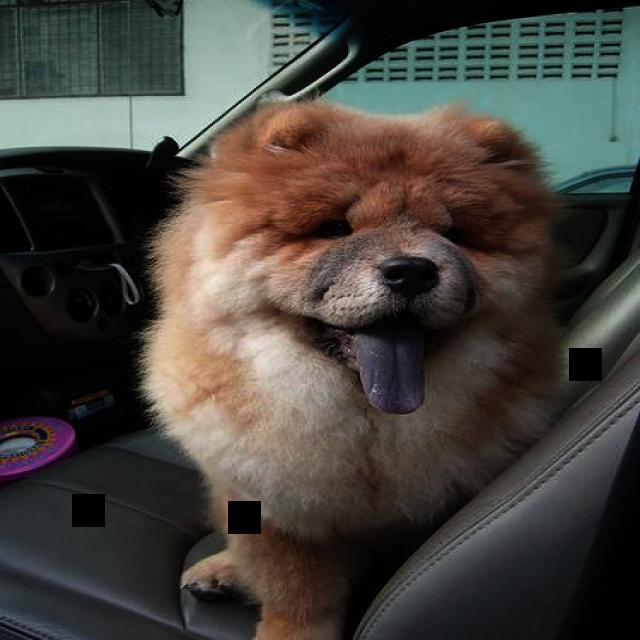adult_dog: (132, 95, 570, 640)
